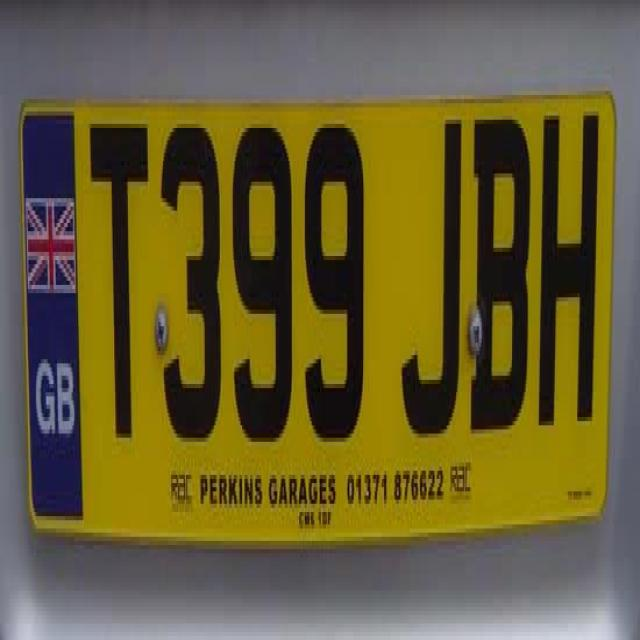Autre: (20, 102, 609, 542)
